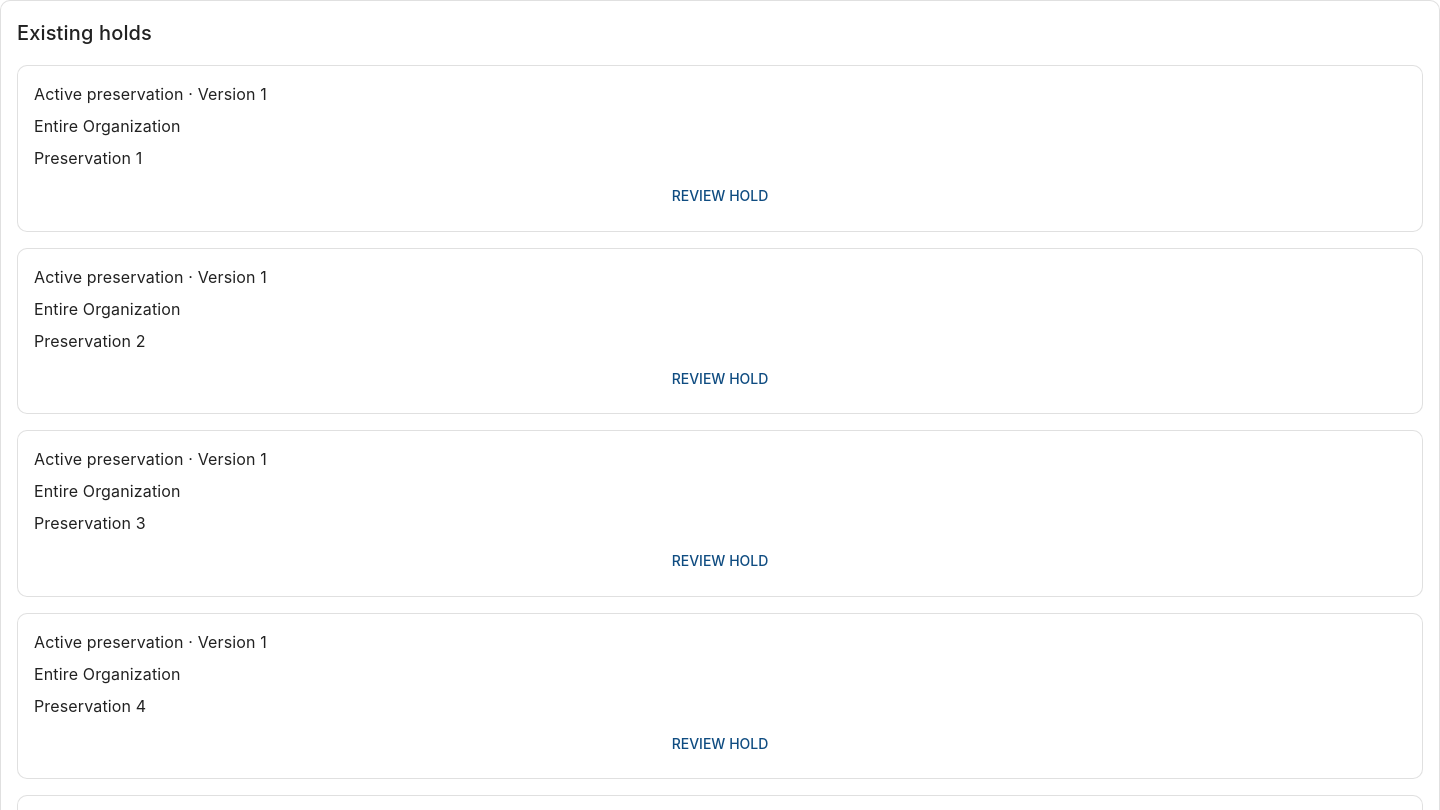
Test: pages authorized results, selects a known source, and restores the prior boundary
Click the button "Review hold" below "Preservation 3": coordinates (720, 561) top-left (34, 543), bottom-right (1406, 580)
(page scrolled)
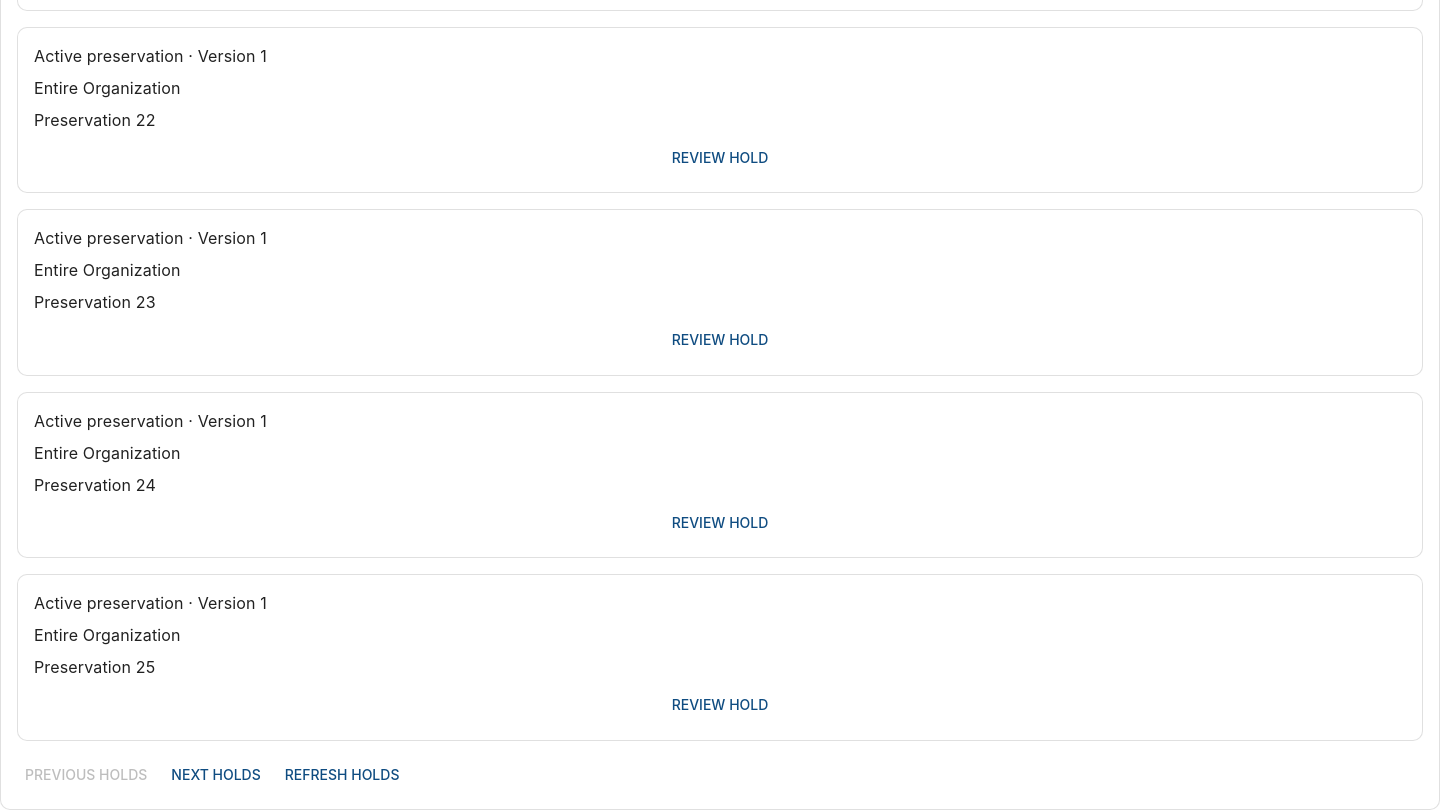
Click the button "Next holds": coordinates (216, 775) top-left (163, 756), bottom-right (269, 793)
(page scrolled)
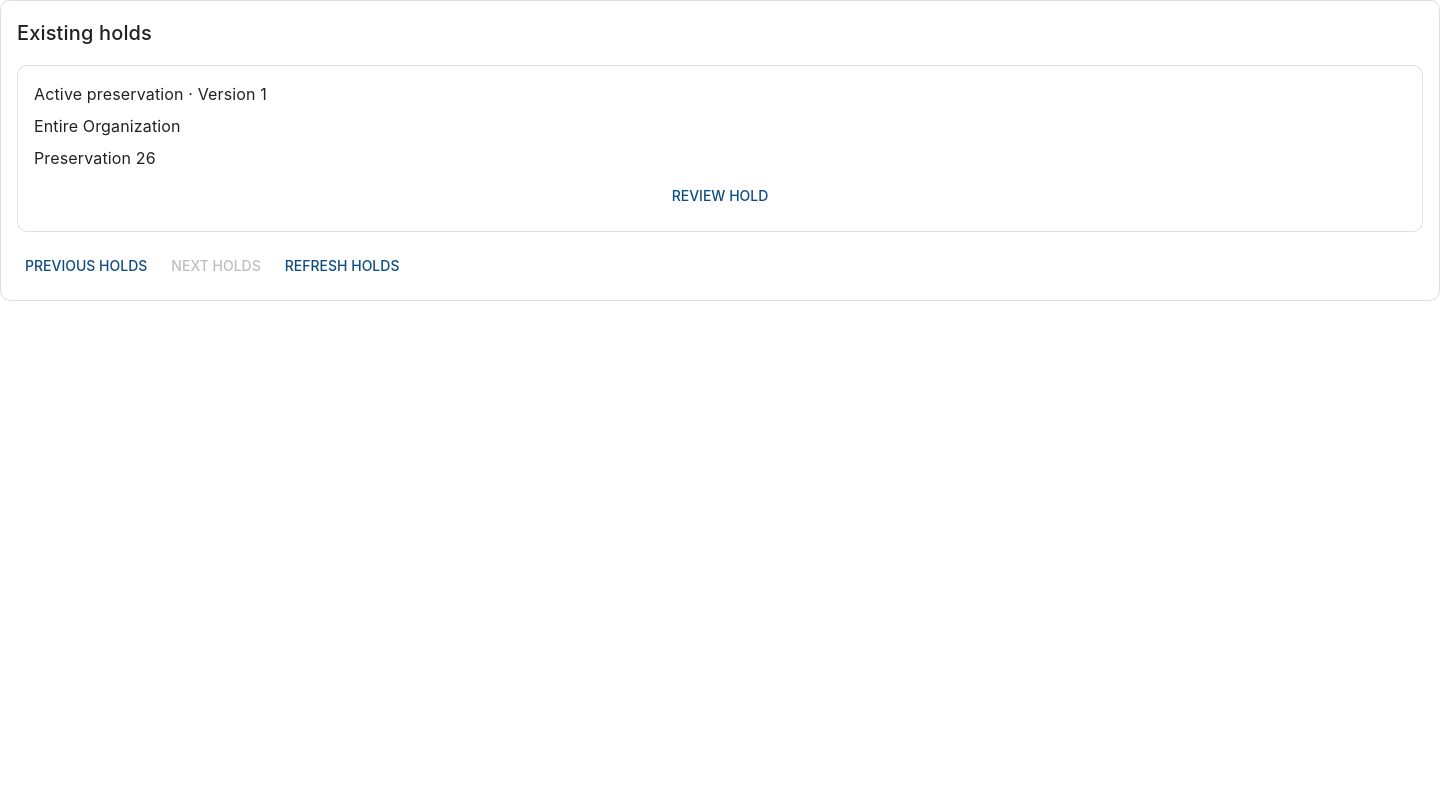
Expected: the text "Preservation 26" is shown, top-left (34, 148), bottom-right (156, 168)
Expected: the button "Next holds" is disabled, top-left (163, 248), bottom-right (269, 284)
Click the button "Previous holds": coordinates (86, 266) top-left (17, 248), bottom-right (155, 284)
(page scrolled)
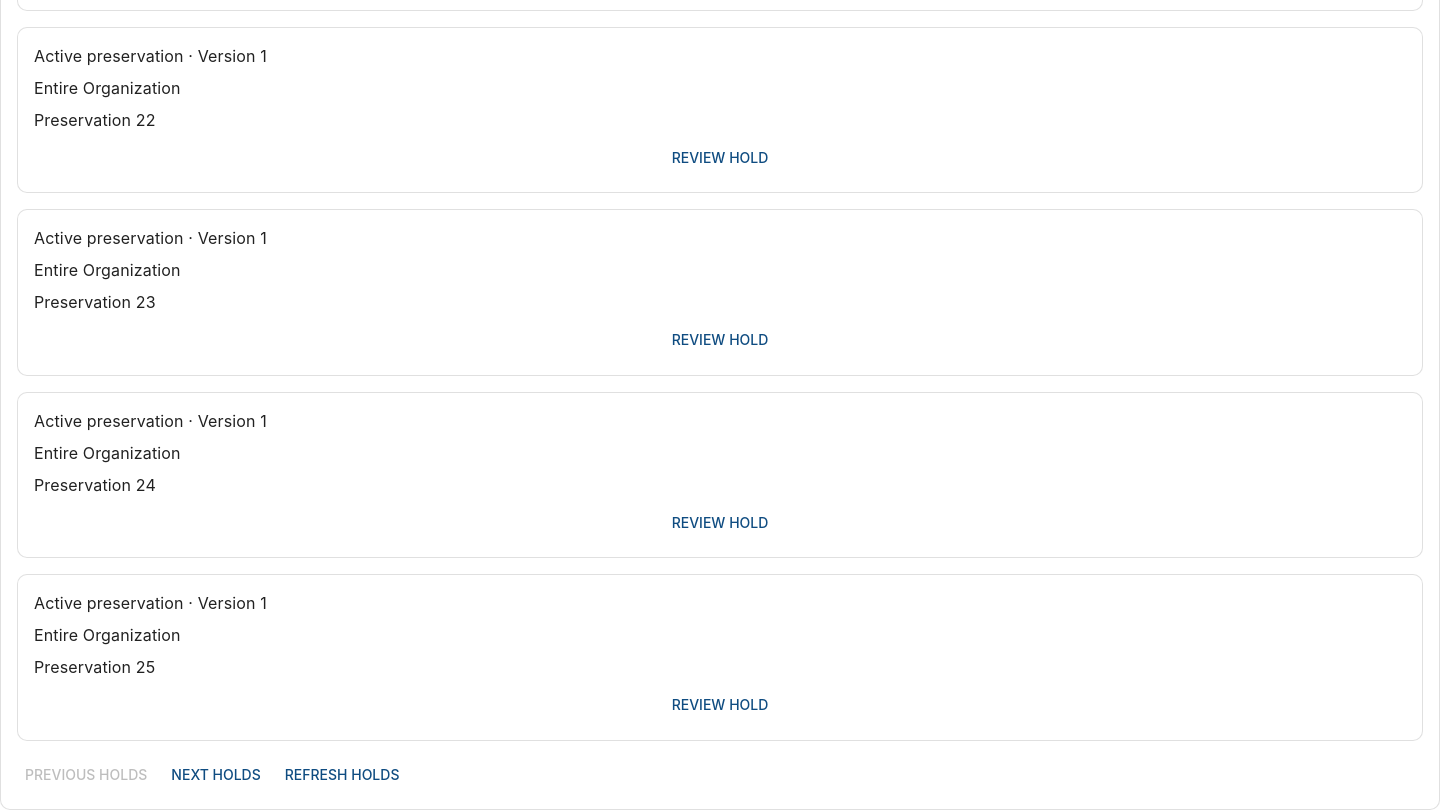
Expected: the text "Preservation 25" is shown, top-left (34, 657), bottom-right (155, 677)
Expected: the button "Previous holds" is disabled, top-left (17, 756), bottom-right (155, 793)
